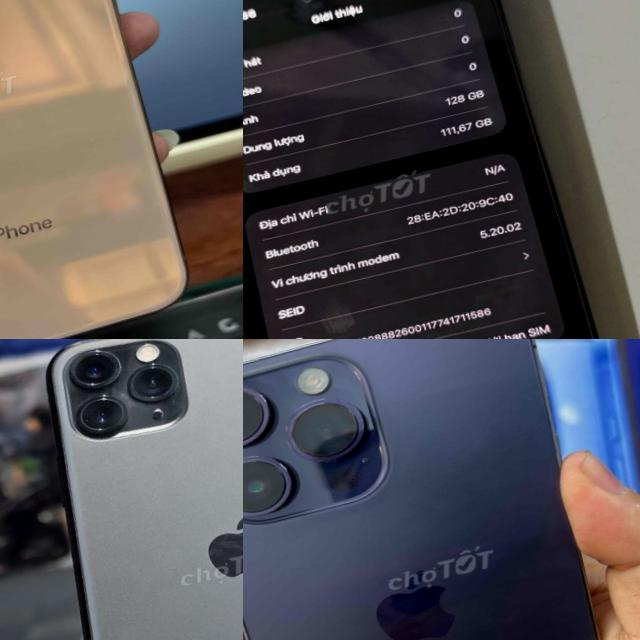scratch: (270, 0, 336, 31)
